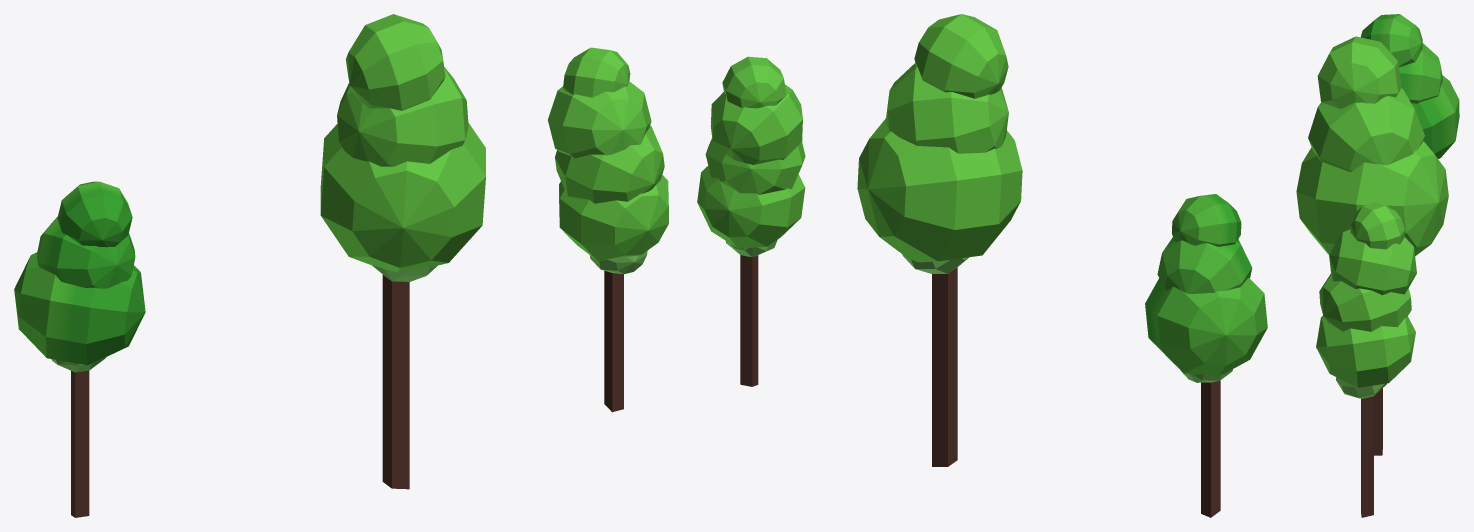
The model's file is cay 1.fbx.
The picture shows the model from 3 angles, left to right: view 1: azimuth 30°, elevation 25°; view 2: azimuth 150°, elevation 25°; view 3: azimuth 270°, elevation 25°; orthographic projection. The views are drawn at different scales.
Visible parts, largest first — view 1: Tree_2, Tree_1, Tree_3; view 2: Tree_2, Tree_1, Tree_3; view 3: Tree_2, Tree_1, Tree_3.
Boxes of the visible parts, x1,y1,x2,y2 form: Tree_2: [320, 14, 485, 489]; Tree_1: [548, 47, 668, 412]; Tree_3: [14, 181, 145, 517]; Tree_2: [857, 14, 1022, 466]; Tree_1: [697, 56, 805, 386]; Tree_3: [1145, 194, 1267, 517]; Tree_2: [1296, 36, 1448, 455]; Tree_1: [1316, 201, 1416, 517]; Tree_3: [1361, 14, 1459, 158].
Bounding box in the file's own units: 1051 × 776 × 281.
